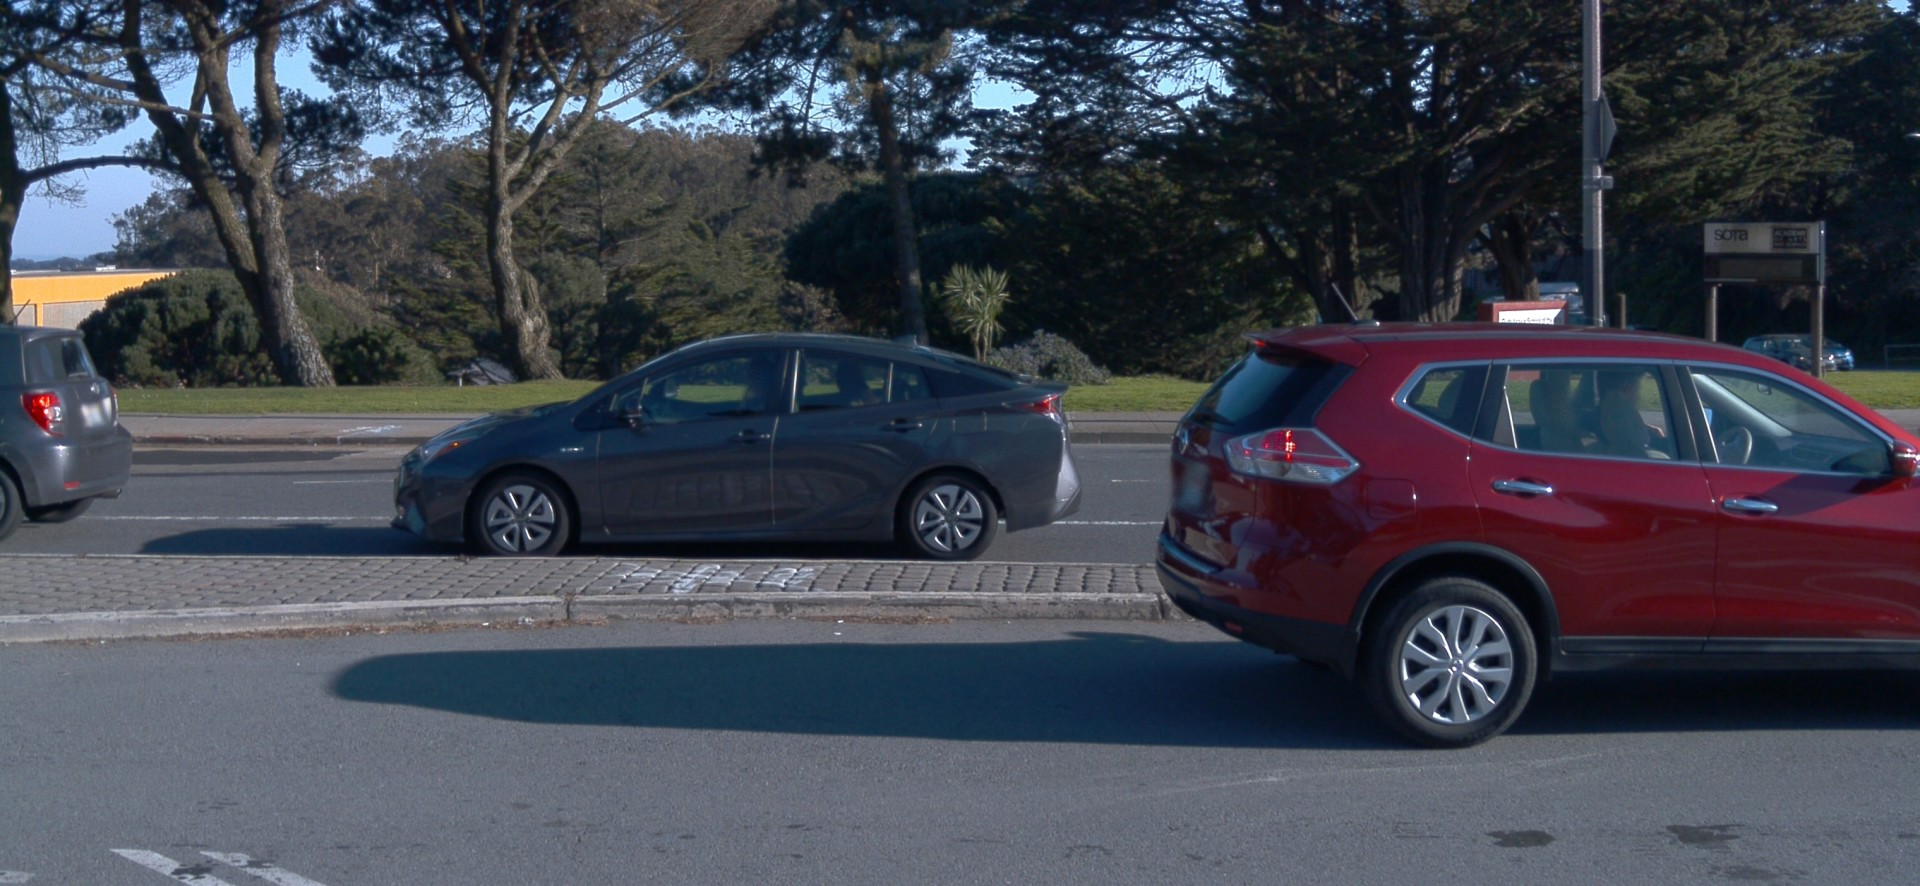TYPE_VEHICLE: (1151, 315, 1920, 747), (393, 330, 1087, 565), (0, 326, 134, 540), (1475, 280, 1613, 327), (1739, 332, 1837, 373), (1805, 332, 1856, 370), (1624, 321, 1669, 332)
